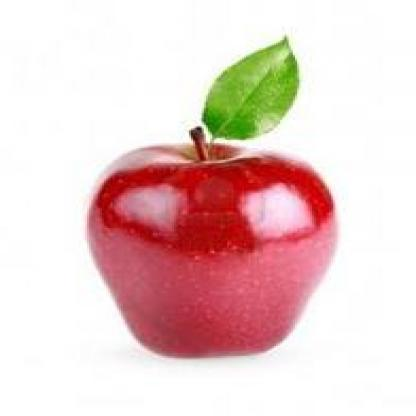apple: (85, 135, 352, 368)
